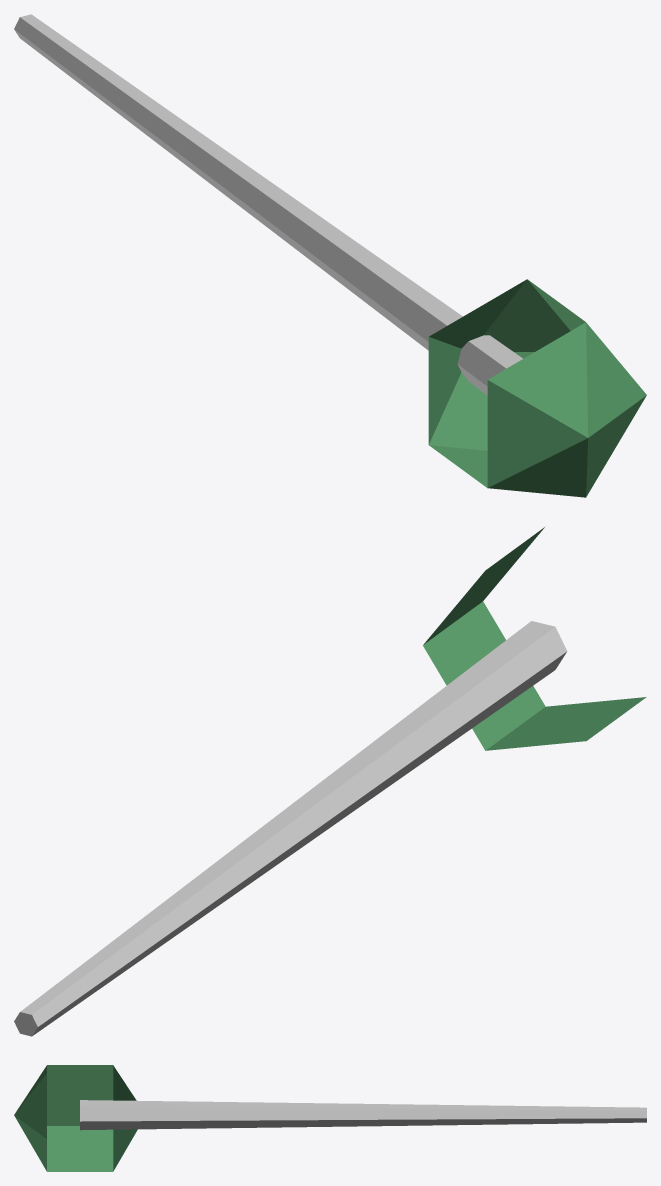
The model's file is birch_tree_low.glb.
3 renders of one model, top to bottom at view 1: azimuth 30°, elevation 25°; view 2: azimuth 150°, elevation 25°; view 3: azimuth 270°, elevation 25°, orthographic. The views are drawn at different scales.
Parts seen in each view (by area): view 1: geometry_0; view 2: geometry_0; view 3: geometry_0.
Boxes of the visible parts, x1,y1,x2,y2 form: geometry_0: (14, 14, 646, 497); geometry_0: (14, 527, 646, 1036); geometry_0: (14, 1065, 646, 1171).
Bounding box in the file's own units: 0.5483 × 0.5765 × 3.35.
